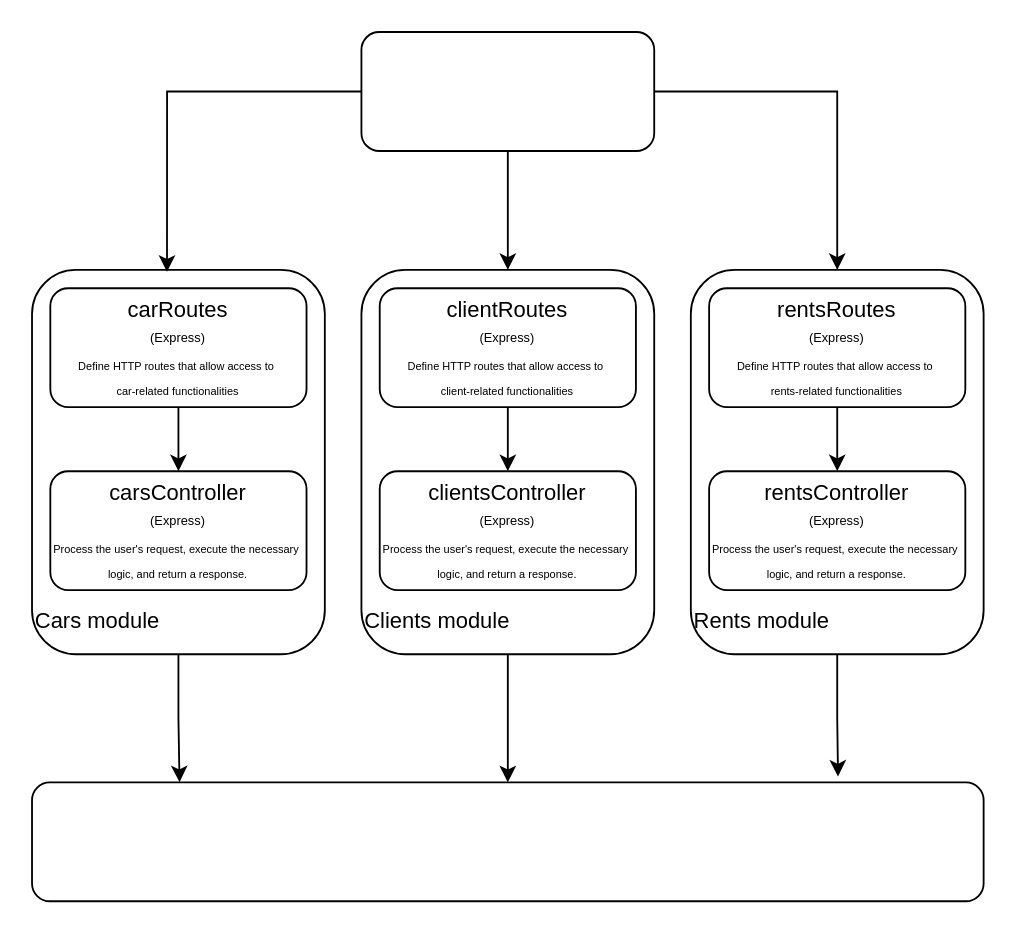
Some shapes in this 1016 by 933 pixel diagram are drawn without their labels. The shapes that lost their labels are listed below. From the top down, each one's centre as x and y in pixels, then its label:
(x=507, y=90): AutoRents (Web application) Manages the fleet, customers and reservations
(x=507, y=840): Database (.db) (SQLite) Store fleet, customer, and reservation information
